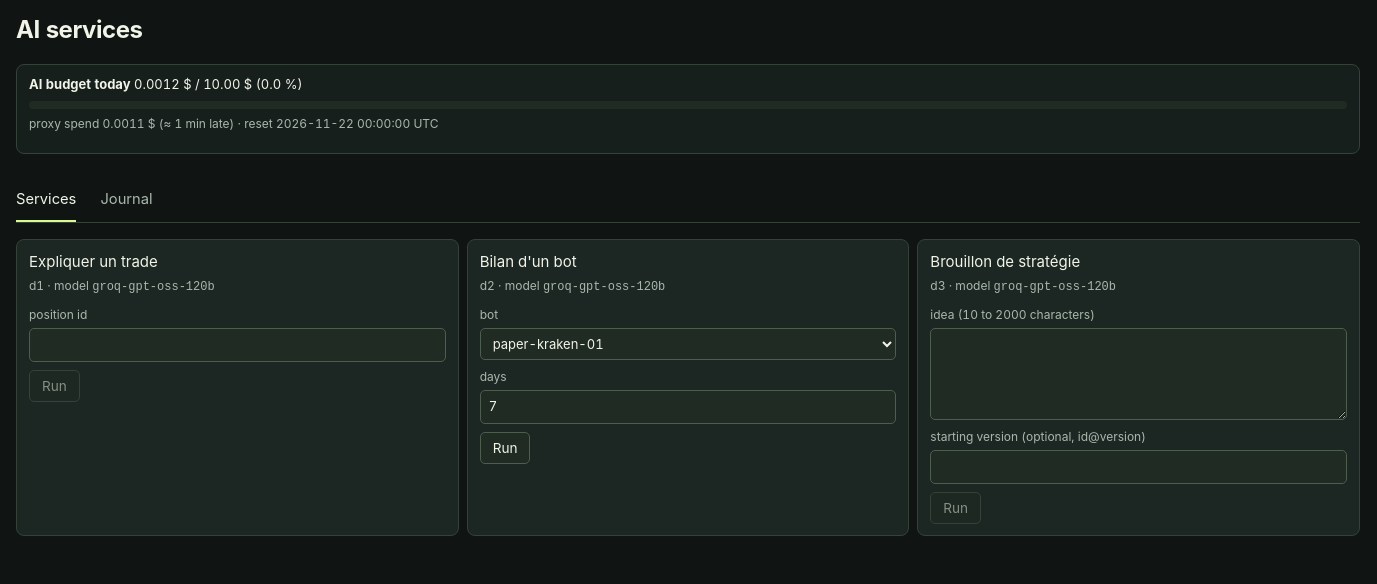
Test case: AI services screen › runs a service and shows the steps as they arrive
The width and height of the screenshot is (1377, 584).
Click the submit button at (505, 448), box [480,432,530,464]
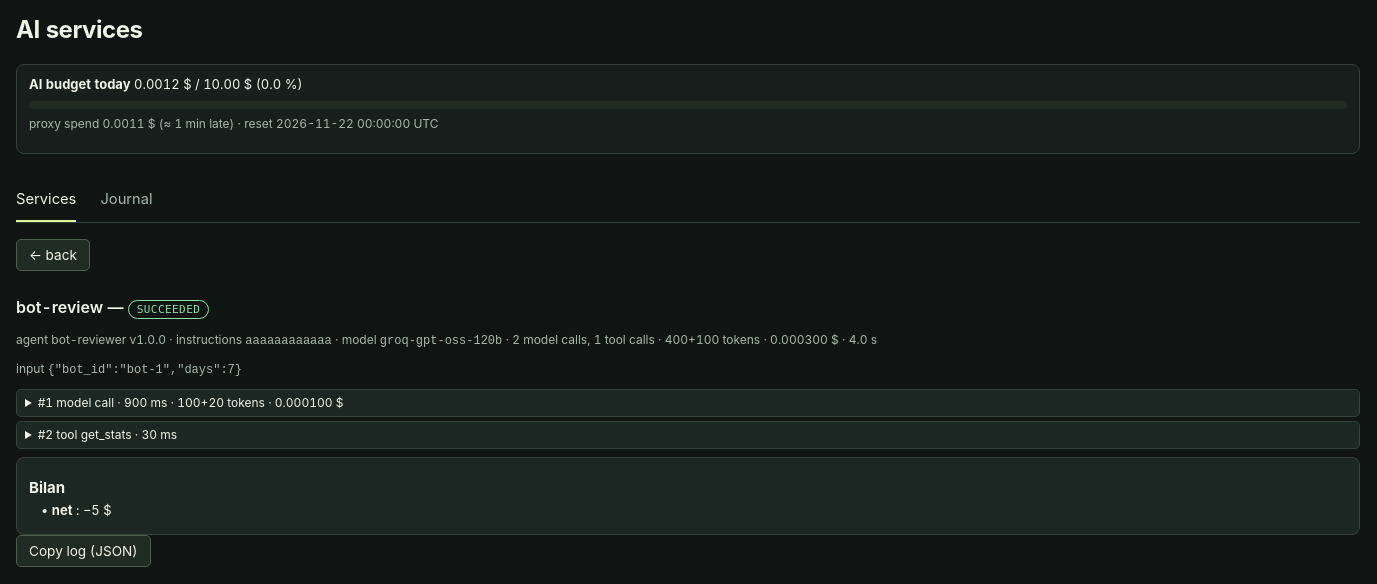
expect the element with test id "step-1" shows "model call": met, box [56,395,114,410]
expect the element with test id "step-2" shows "tool get_stats": met, box [56,427,132,442]
expect the element with test id "answer" shows "Bilan": met, box [29,478,65,497]
